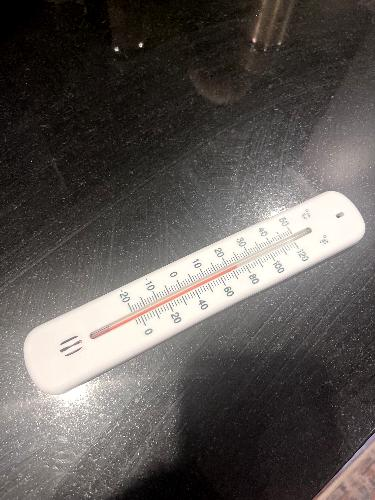thermo: (16, 177, 368, 401)
